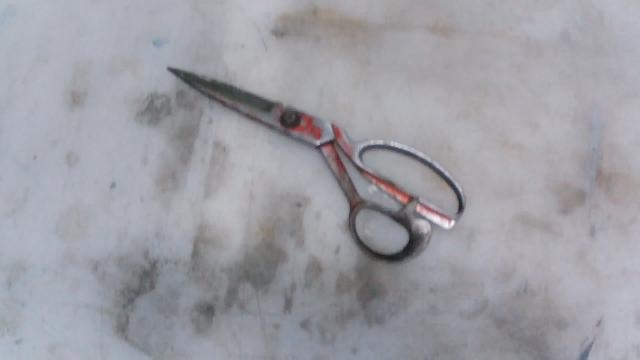gunting: (139, 43, 518, 302)
